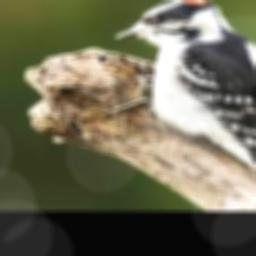Woodpecker: (100, 0, 256, 204)
